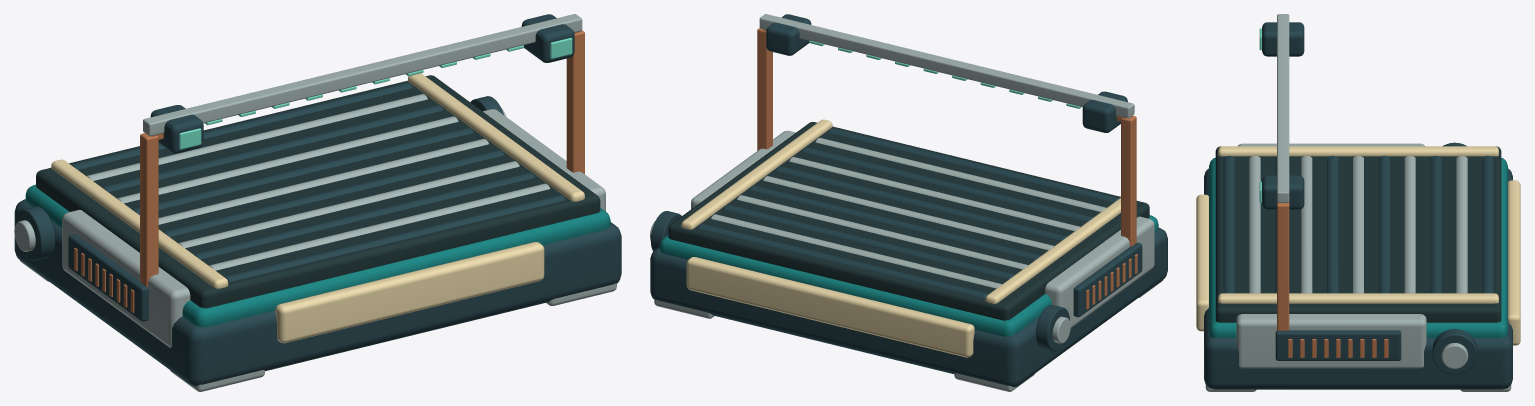
The model's file is ParcelDiverter.fbx.
3 views of the same model, side by side, from view 1: azimuth 30°, elevation 25°; view 2: azimuth 150°, elevation 25°; view 3: azimuth 270°, elevation 25° (orthographic). The views are drawn at different scales.
Parts seen in each view (by area): view 1: Top transfer bed, Main base, Infeed faceplate, Scanner gantry, Gear case lid, Side controller, Rubber edge bumper.001, Rubber edge bumper, Safety upright, Vent panel, Transfer roller, Transfer roller.001 (+17 smaller); view 2: Top transfer bed, Main base, Output faceplate, Scanner gantry, Gear case lid, Side controller, Rubber edge bumper.001, Rubber edge bumper, Safety upright, Vent panel, Transfer roller.002, Transfer roller.006 (+15 smaller); view 3: Top transfer bed, Main base, Side controller.001, Gear case lid, Vent panel.001, Rubber edge bumper.001, Rubber edge bumper, Scanner gantry, Output faceplate, Infeed faceplate, Safety upright.001, Transfer roller.009 (+14 smaller).
Boxes of the visible parts, box(x1,y1,x2,y2) form: Top transfer bed: box(36, 75, 600, 308); Main base: box(14, 199, 621, 386); Infeed faceplate: box(275, 242, 544, 343); Scanner gantry: box(143, 14, 582, 136); Gear case lid: box(25, 184, 610, 327); Side controller: box(62, 209, 190, 347); Rubber edge bumper.001: box(408, 73, 584, 201); Rubber edge bumper: box(51, 159, 228, 288); Safety upright: box(140, 133, 158, 286); Vent panel: box(68, 234, 148, 321); Transfer roller: box(224, 195, 565, 281); Transfer roller.001: box(209, 183, 550, 270); Top transfer bed: box(668, 122, 1149, 320); Main base: box(650, 227, 1167, 387); Output faceplate: box(686, 257, 974, 357); Scanner gantry: box(759, 14, 1134, 118); Gear case lid: box(659, 215, 1158, 336); Side controller: box(1045, 216, 1154, 327); Rubber edge bumper.001: box(681, 119, 832, 229); Rubber edge bumper: box(985, 198, 1120, 303); Safety upright: box(1121, 115, 1136, 246); Vent panel: box(1073, 242, 1142, 317); Transfer roller.002: box(802, 147, 1093, 221); Transfer roller.006: box(750, 185, 1040, 259); Top transfer bed: box(1215, 146, 1501, 322); Main base: box(1204, 168, 1512, 389); Side controller.001: box(1236, 314, 1426, 368); Gear case lid: box(1209, 158, 1507, 337); Vent panel.001: box(1275, 330, 1401, 360); Rubber edge bumper.001: box(1218, 293, 1498, 303); Rubber edge bumper: box(1218, 146, 1498, 156); Scanner gantry: box(1277, 14, 1289, 202); Output faceplate: box(1508, 180, 1520, 345); Infeed faceplate: box(1196, 194, 1208, 331); Safety upright.001: box(1277, 202, 1289, 330); Transfer roller.009: box(1456, 155, 1467, 293).
Size of the model in its own units: 398 by 191 by 276.
